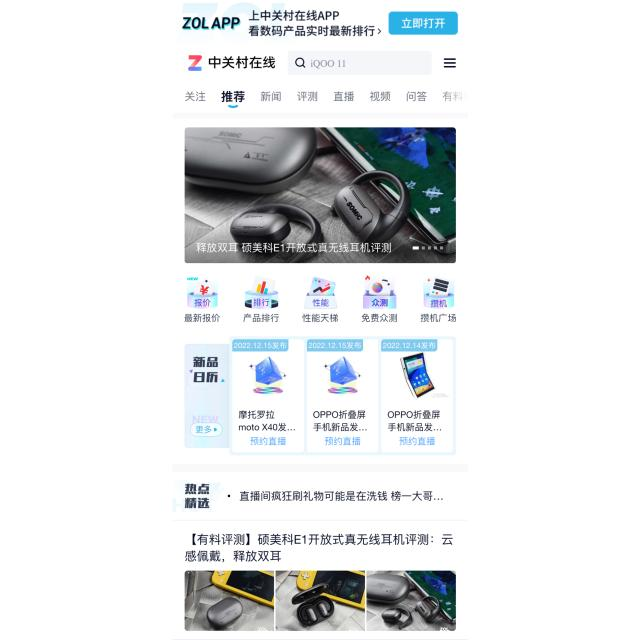input: (286, 49, 434, 76)
logo: (184, 52, 205, 74)
navigation: (180, 88, 470, 113), (438, 52, 462, 76)
